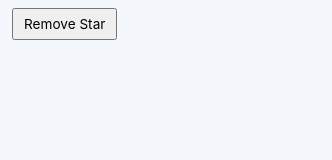
it: failed save preserves the decision and gives a retryable error
What coordinates should you click on to do the following:
click the button "Remove Star"
I would click on:
 (65, 24)
Its box is x1=12 y1=8 x2=117 y2=40.
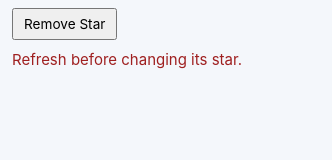
Check: the message "Refresh before changing its star." is shown, box x1=12 y1=50 x2=242 y2=69
